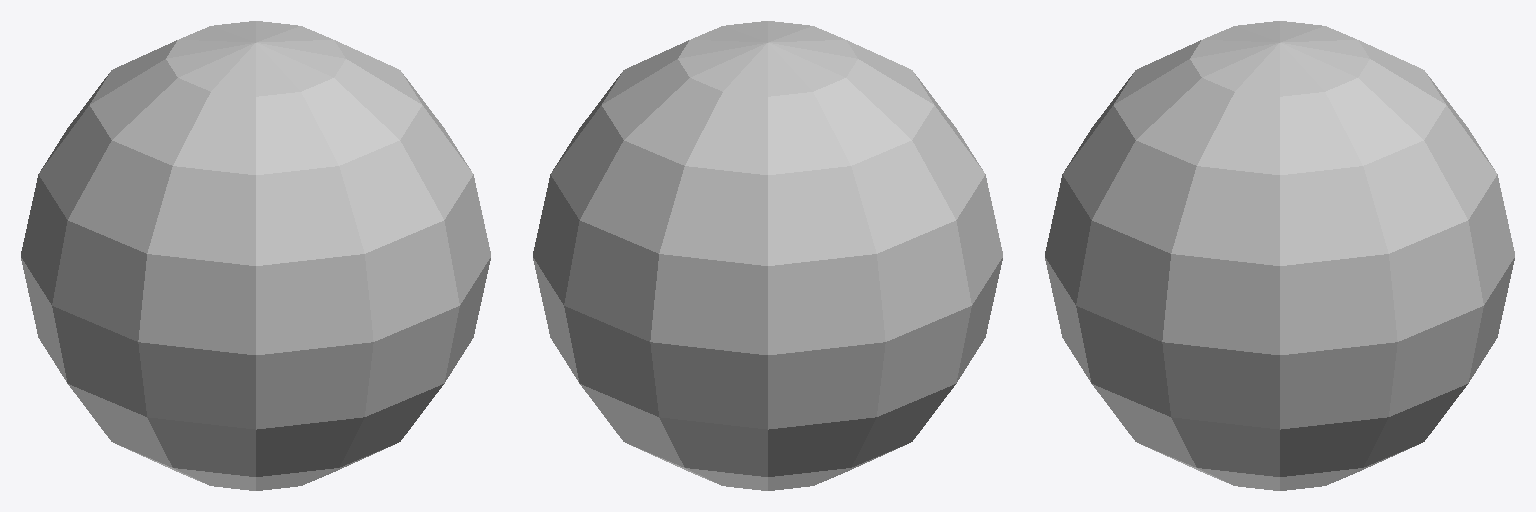
Rendered from gimbal.obj.
The picture shows the model from 3 angles: view 1: azimuth 30°, elevation 25°; view 2: azimuth 150°, elevation 25°; view 3: azimuth 270°, elevation 25°; orthographic projection.
Visible parts, largest first — view 1: Circle.002_Circle.000; view 2: Circle.002_Circle.000; view 3: Circle.002_Circle.000.
Part boxes in pixels (bbox=[...]): Circle.002_Circle.000: bbox=[21, 21, 490, 490]; Circle.002_Circle.000: bbox=[533, 21, 1002, 490]; Circle.002_Circle.000: bbox=[1045, 21, 1514, 490].
Size of the model in its own units: 0.19 by 0.19 by 0.19.